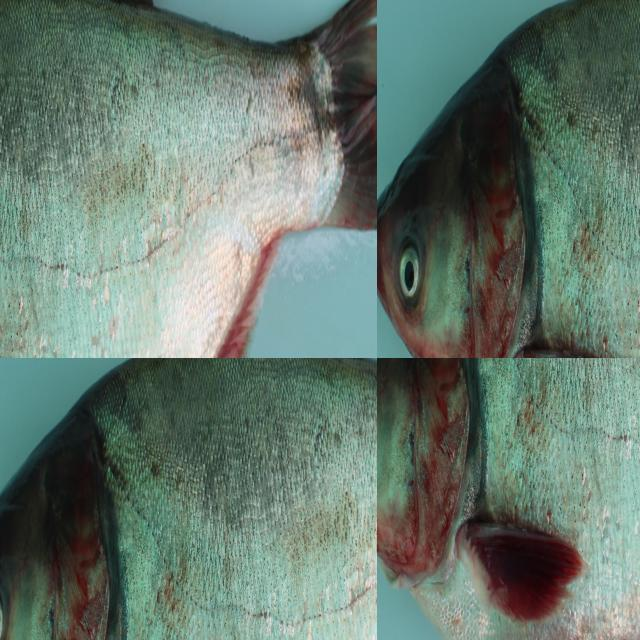fish: (0, 0, 377, 358), (377, 358, 640, 640)
